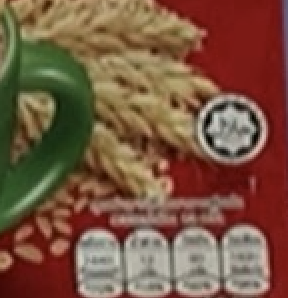halal: (211, 111, 258, 146)
